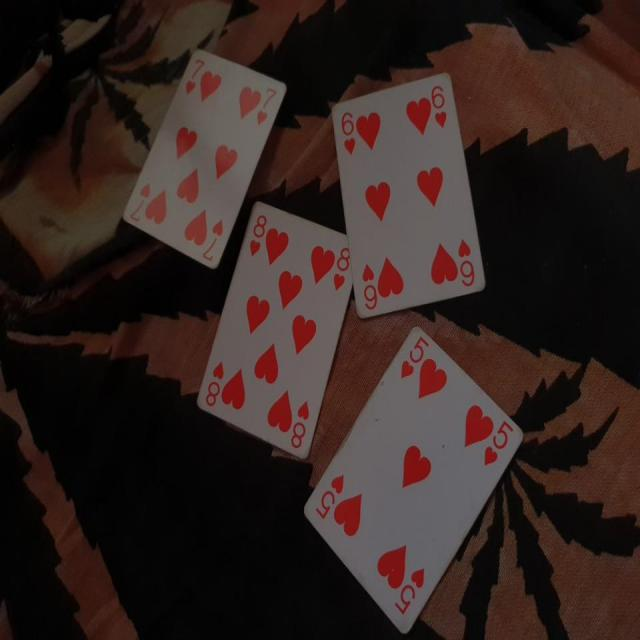5 Hearts: (288, 323, 524, 628)
6 Hearts: (332, 65, 495, 316)
7 Hearts: (113, 44, 289, 274)
8 Hearts: (186, 193, 358, 467)
